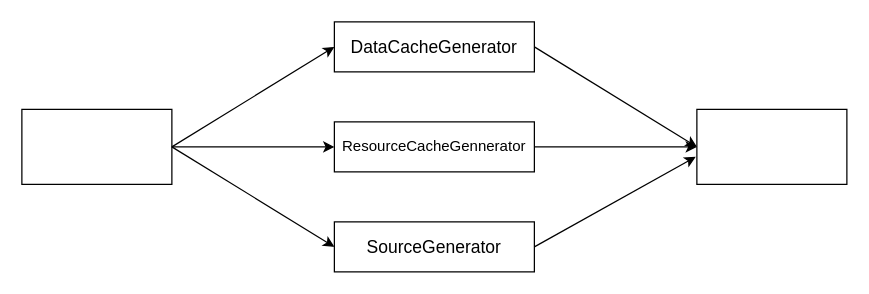
The diagram is 869 pixels wide and 294 high, and some of its shapes have lost their labels. Each missing label, with the box of its shape:
Data: (696, 108, 847, 184)
Request: (21, 108, 172, 184)
